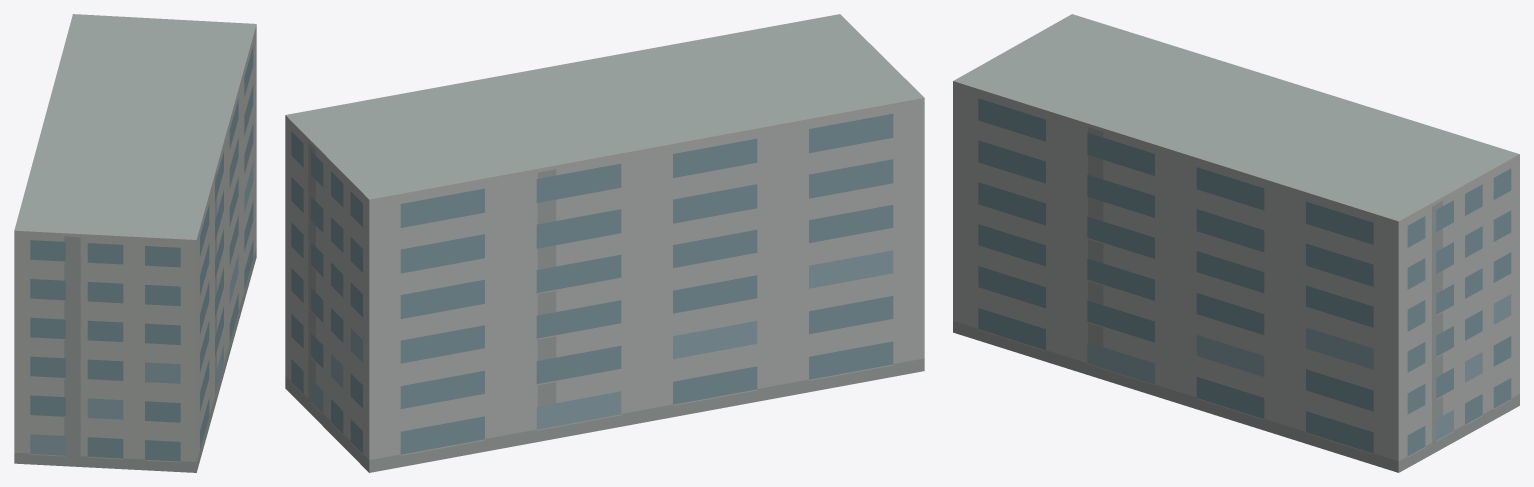
The model's file is survey-upis-32628378.glb.
3 renders of one model, left to right at view 1: azimuth 30°, elevation 25°; view 2: azimuth 150°, elevation 25°; view 3: azimuth 270°, elevation 25°, orthographic. The views are drawn at different scales.
Parts seen in each view (by area): view 1: survey-upis-32628378.tmp; view 2: survey-upis-32628378.tmp; view 3: survey-upis-32628378.tmp.
Part boxes in pixels (<box>): survey-upis-32628378.tmp: <box>14,14,256,472</box>; survey-upis-32628378.tmp: <box>285,14,924,472</box>; survey-upis-32628378.tmp: <box>953,14,1519,472</box>.
Bounding box in the file's own units: 31.3 × 17.69 × 36.14.
